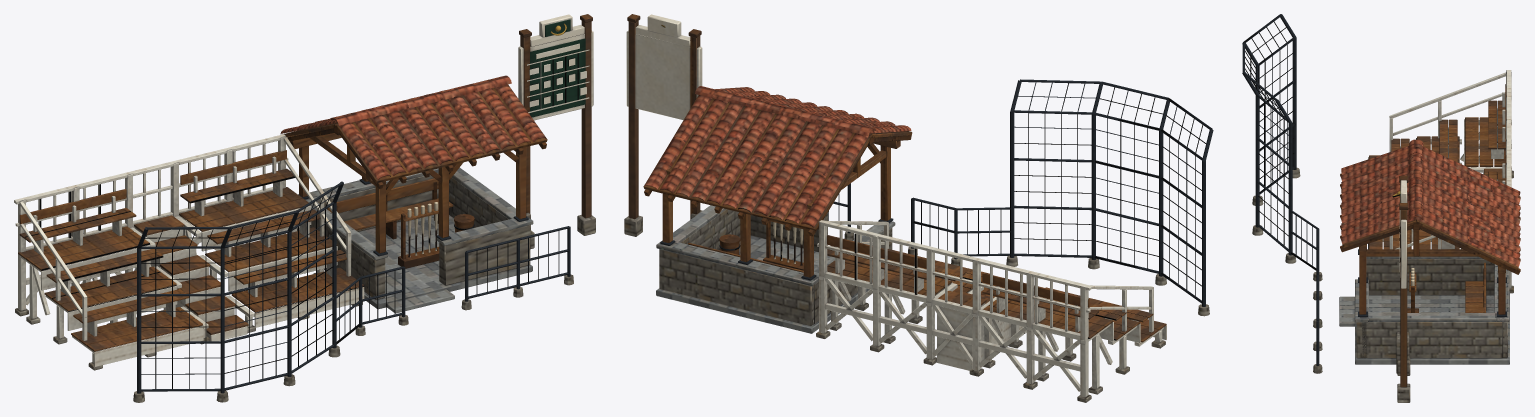
File: public_baseball_dugout.glb
3 views of the same model, side by side, from view 1: azimuth 30°, elevation 25°; view 2: azimuth 150°, elevation 25°; view 3: azimuth 270°, elevation 25° (orthographic). The views are drawn at different scales.
Parts seen in each view (by area): view 1: BaseballBleachers, CoachDugoutAndScoreboard, BackstopSteelScreen; view 2: CoachDugoutAndScoreboard, BaseballBleachers, BackstopSteelScreen; view 3: CoachDugoutAndScoreboard, BackstopSteelScreen, BaseballBleachers.
Part boxes in pixels (bbox=[...]): BaseballBleachers: bbox=[14, 134, 364, 370]; CoachDugoutAndScoreboard: bbox=[280, 14, 595, 313]; BackstopSteelScreen: bbox=[133, 181, 573, 402]; CoachDugoutAndScoreboard: bbox=[624, 14, 912, 333]; BaseballBleachers: bbox=[816, 220, 1166, 402]; BackstopSteelScreen: bbox=[828, 79, 1213, 316]; CoachDugoutAndScoreboard: bbox=[1339, 139, 1520, 402]; BackstopSteelScreen: bbox=[1242, 14, 1322, 373]; BaseballBleachers: bbox=[1368, 70, 1513, 293].
Size of the model in its own units: 10.87 by 4.42 by 5.57.
Materials: 3 (2 with a texture image).
